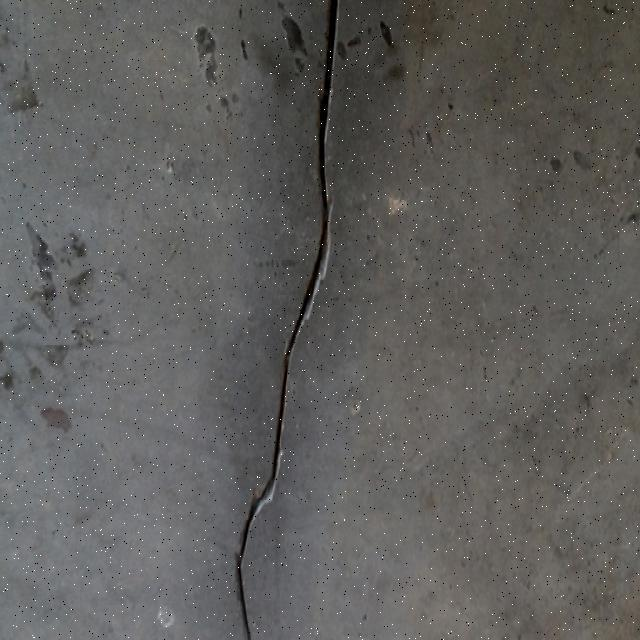crack: (234, 0, 339, 637)
